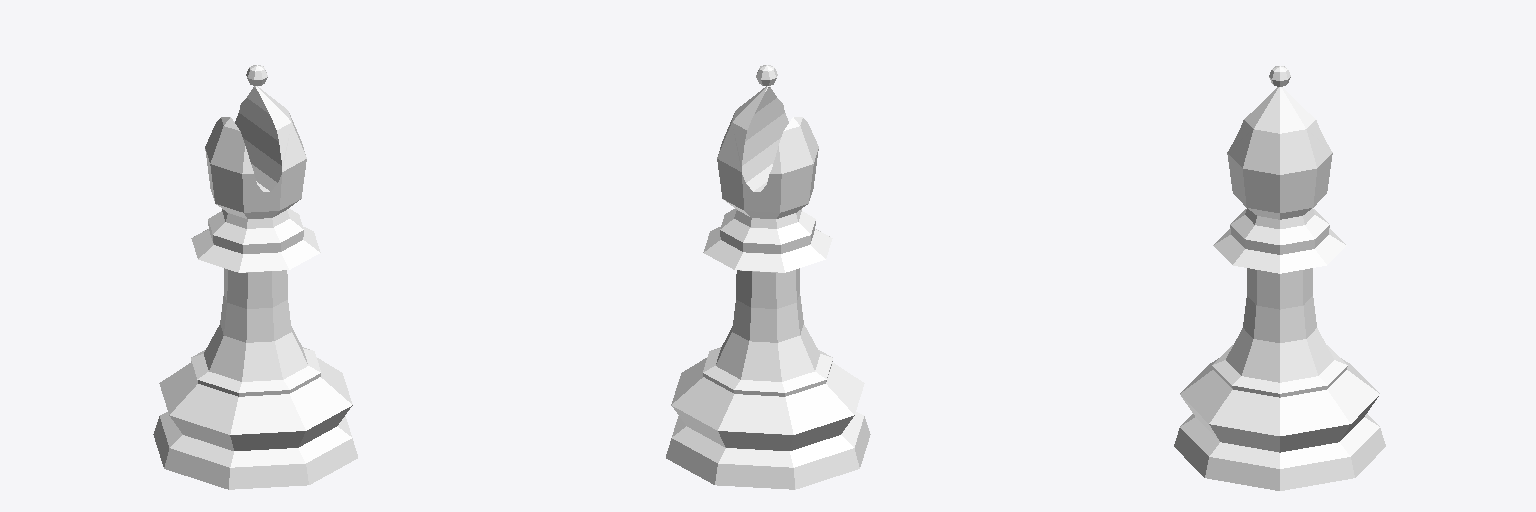
File: bishop.obj
The picture shows the model from 3 angles: view 1: azimuth 30°, elevation 25°; view 2: azimuth 150°, elevation 25°; view 3: azimuth 270°, elevation 25°; orthographic projection.
Visible parts, largest first — view 1: LP_Bishop_0; view 2: LP_Bishop_0; view 3: LP_Bishop_0.
Boxes of the visible parts, <box> form: LP_Bishop_0: <box>153,65,357,489</box>; LP_Bishop_0: <box>666,65,870,489</box>; LP_Bishop_0: <box>1174,66,1385,490</box>.
Bounding box in the file's own units: 4.02 × 7.96 × 4.03.